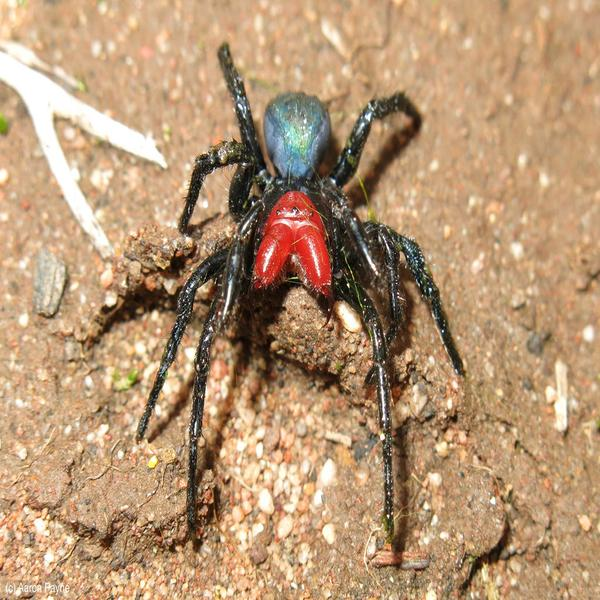Red Headed Mouse Spider: (140, 44, 464, 557)
